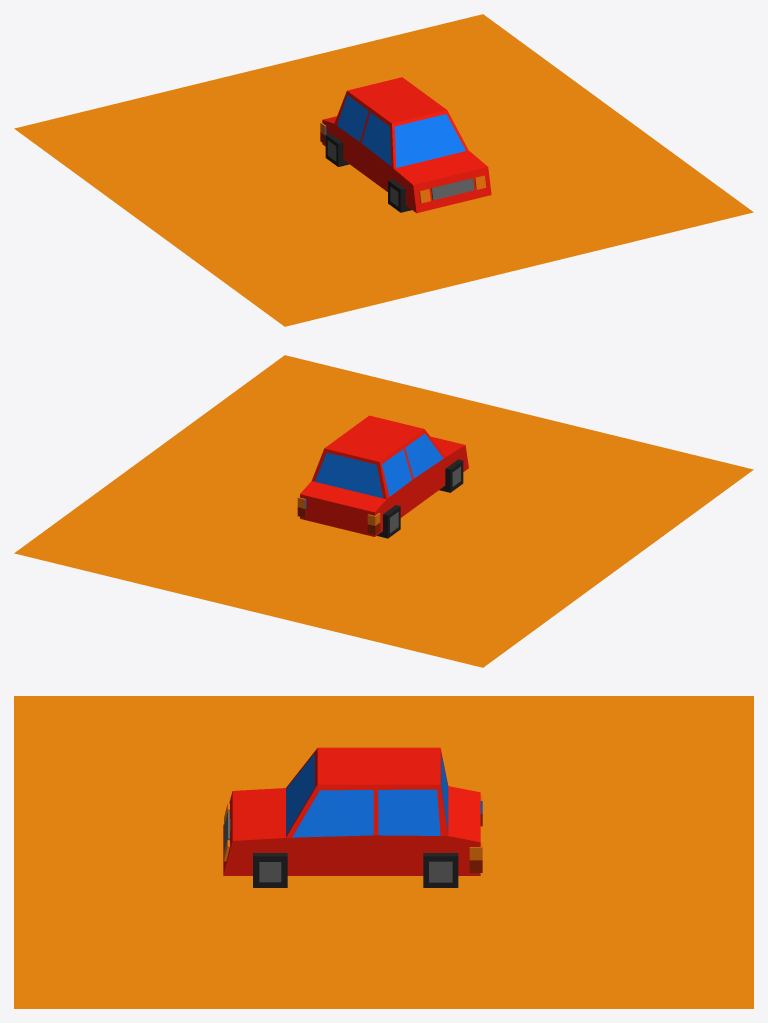
Rendered from car.obj.
3 views of the same model, one above another, from view 1: azimuth 30°, elevation 25°; view 2: azimuth 150°, elevation 25°; view 3: azimuth 270°, elevation 25° (orthographic). The views are drawn at different scales.
Size of the model in its own units: 10.16 by 1.42 by 10.16.
